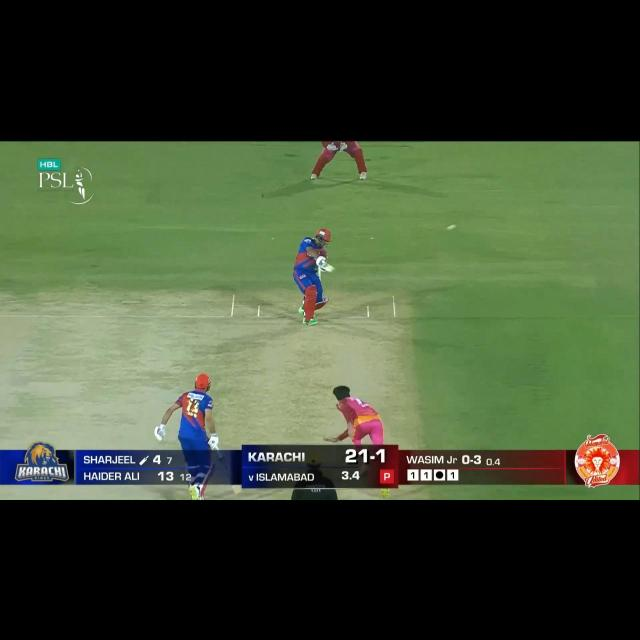bat: (316, 260, 338, 273)
toe: (233, 483, 242, 494), (327, 266, 337, 272)
